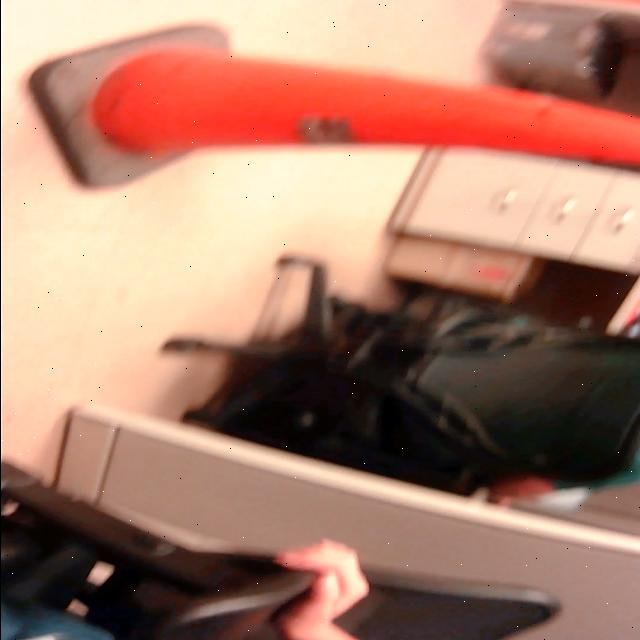traffic cone: (25, 19, 640, 199)
